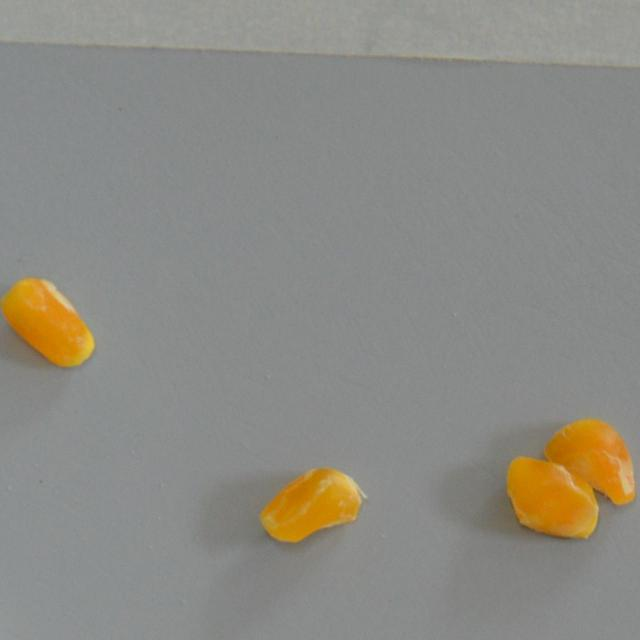pelicula: (540, 414, 640, 508), (255, 466, 366, 546), (0, 277, 95, 370), (505, 452, 600, 542)
